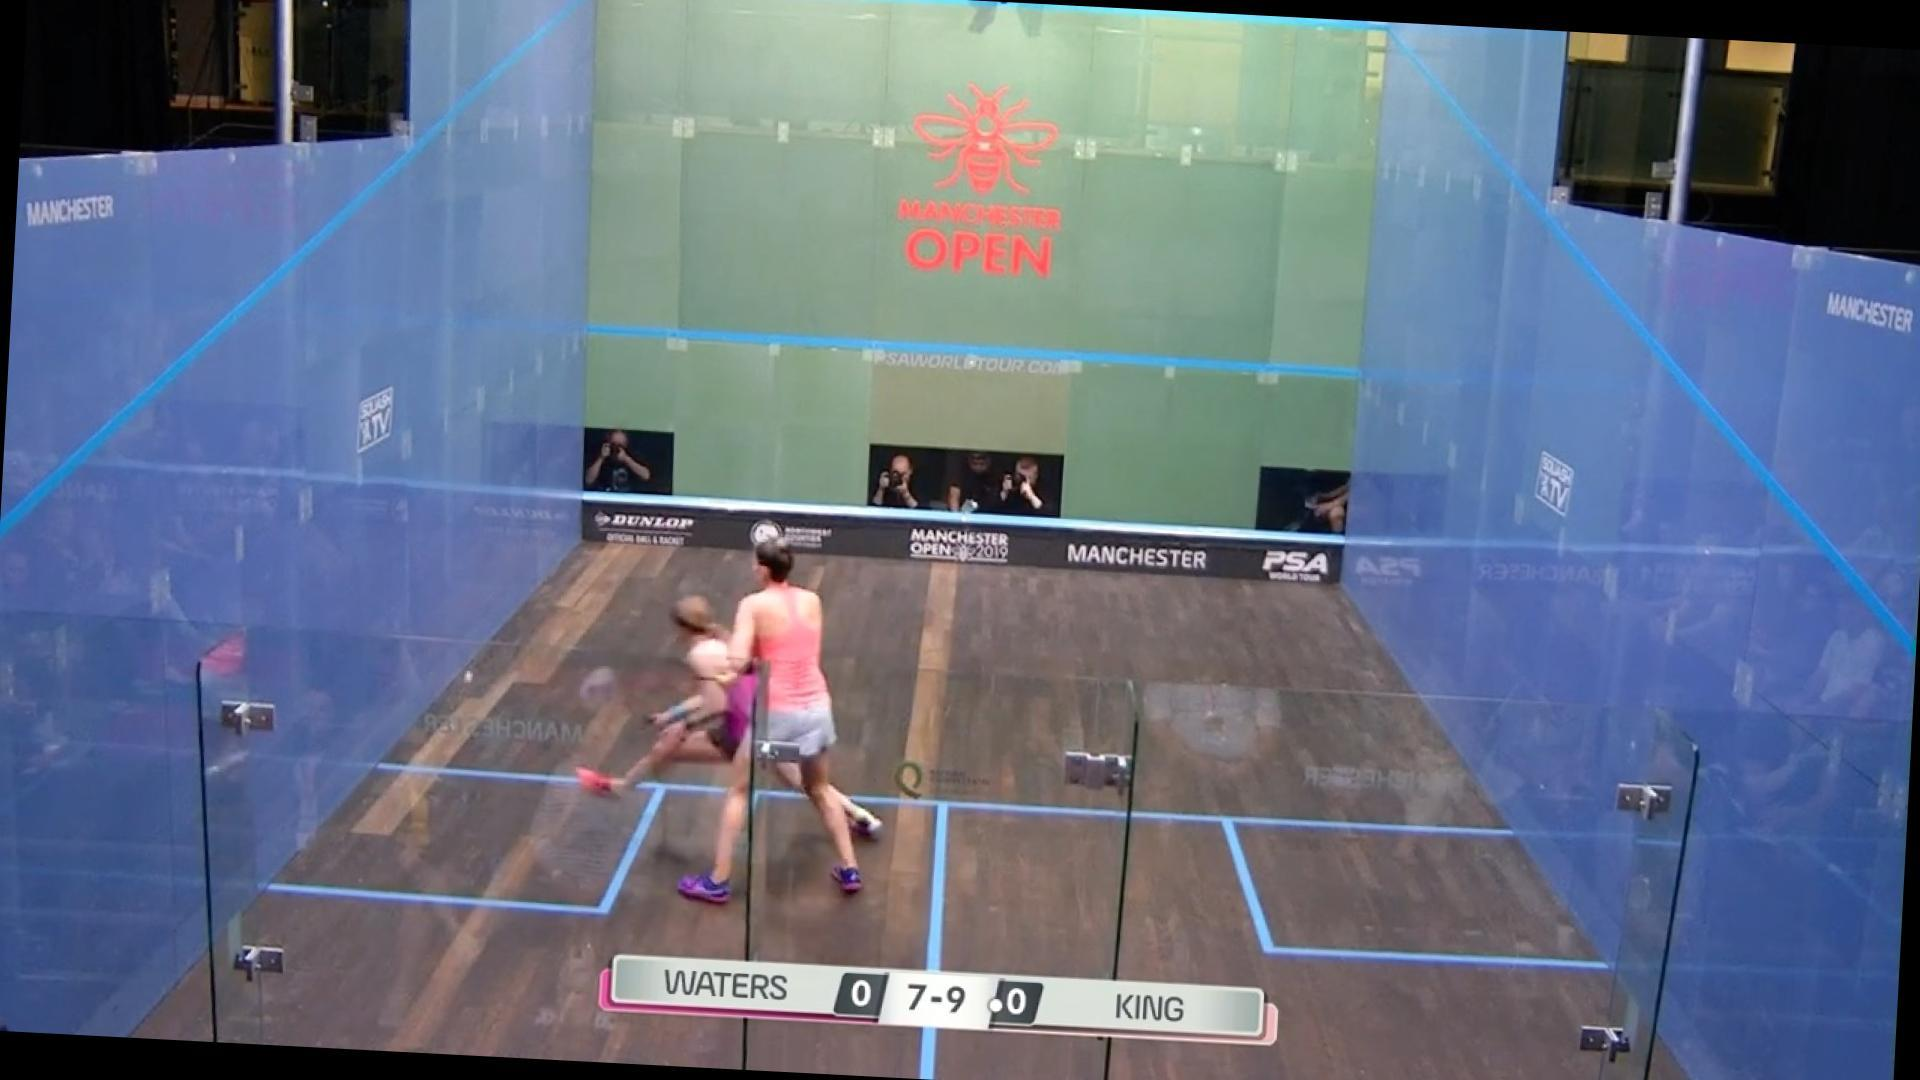Squash-Ball: (438, 646, 498, 708)
